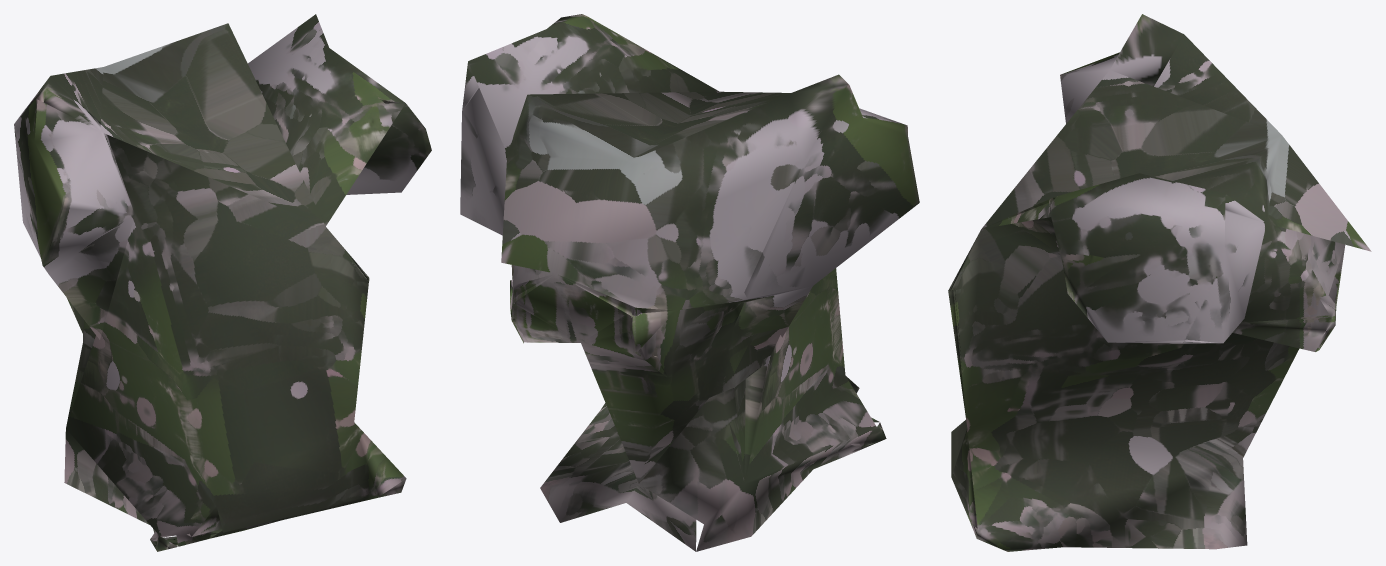
Rendered from hull-b-1-lod2.glb.
3 renders of one model, left to right at view 1: azimuth 30°, elevation 25°; view 2: azimuth 150°, elevation 25°; view 3: azimuth 270°, elevation 25°, orthographic. The views are drawn at different scales.
Parts seen in each view (by area): view 1: Part_Torso; view 2: Part_Torso; view 3: Part_Torso.
Boxes of the visible parts, x1,y1,x2,y2 form: Part_Torso: (14,14,431,551); Part_Torso: (460,14,919,551); Part_Torso: (948,14,1371,551).
Bounding box in the file's own units: 2.4 × 2.61 × 2.33.
Materials: 1 (1 with a texture image).
